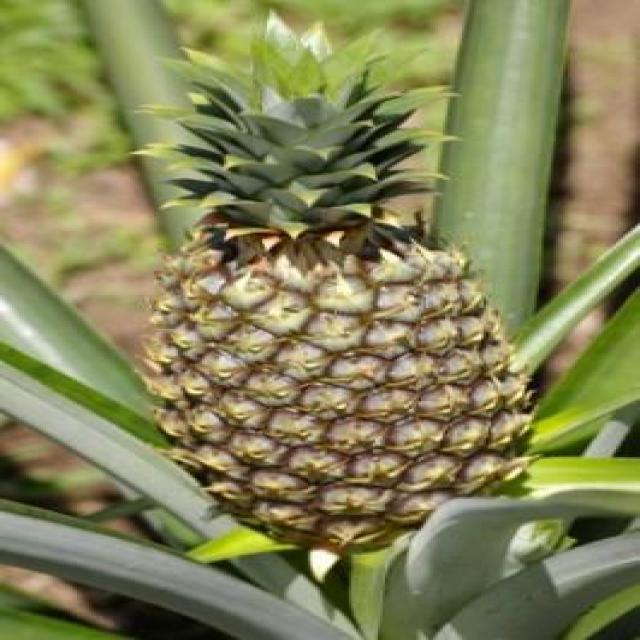pineapple: (114, 172, 550, 547)
